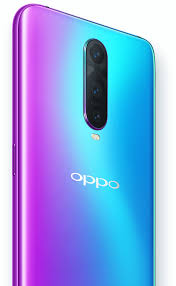oppo: (8, 1, 157, 286)
